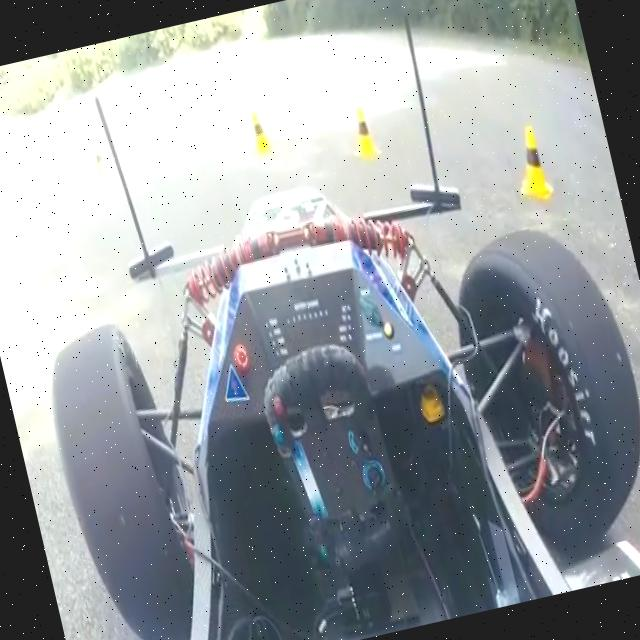yellow_cone: (500, 118, 556, 204), (339, 101, 382, 166), (242, 104, 274, 158), (88, 144, 115, 192)
